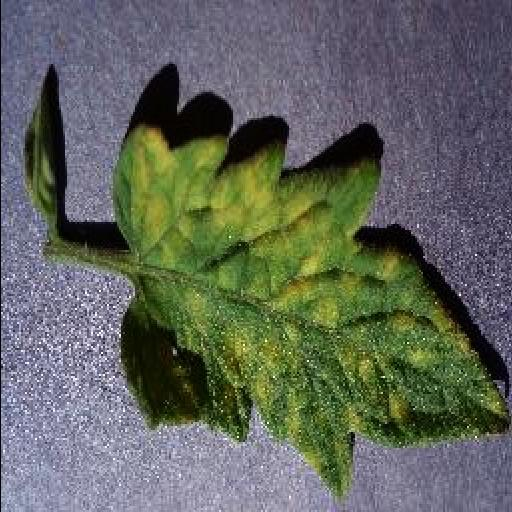disease_tomato: (118, 118, 510, 494)
